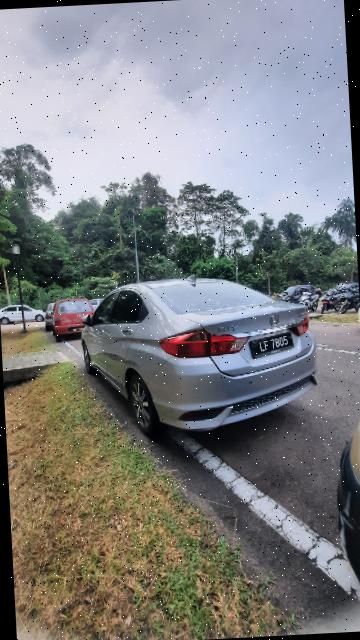License_Plate: (249, 331, 301, 359)
car: (76, 272, 325, 445)
